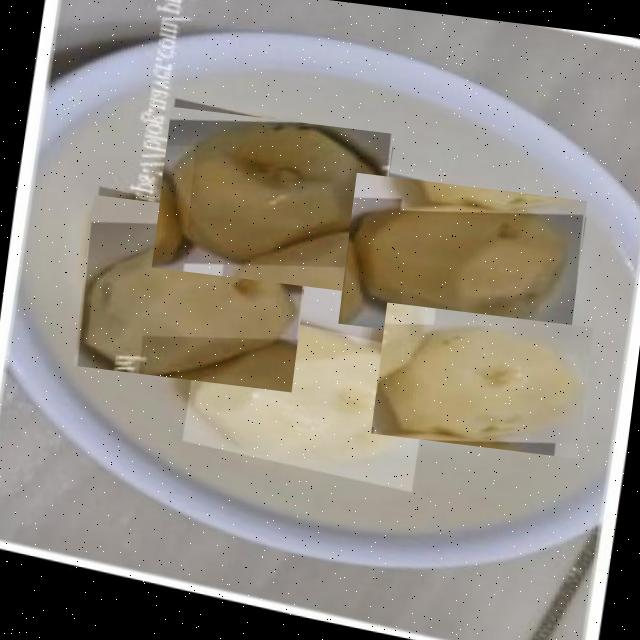Potato: (178, 308, 434, 494), (73, 193, 312, 391), (152, 105, 394, 294), (338, 172, 587, 350), (371, 301, 594, 457)
